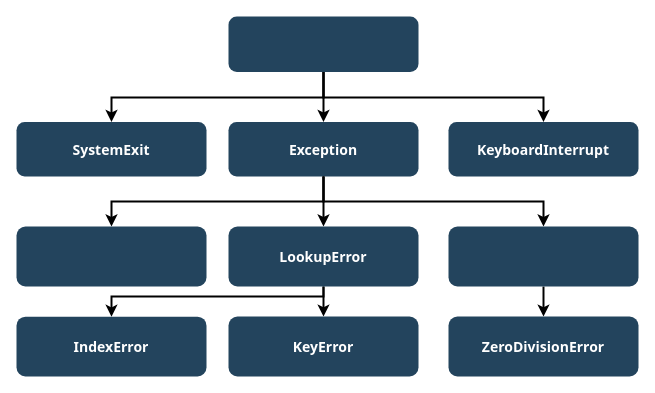
Image size: 655x393. Some labels were removed from this diagram. The shapes that lost their labels are listed below. From the top down, each one's centre as x and y in pixels, then its label:
[323,44]: BaseException
[111,256]: ValueError
[543,256]: ArithmeticError
